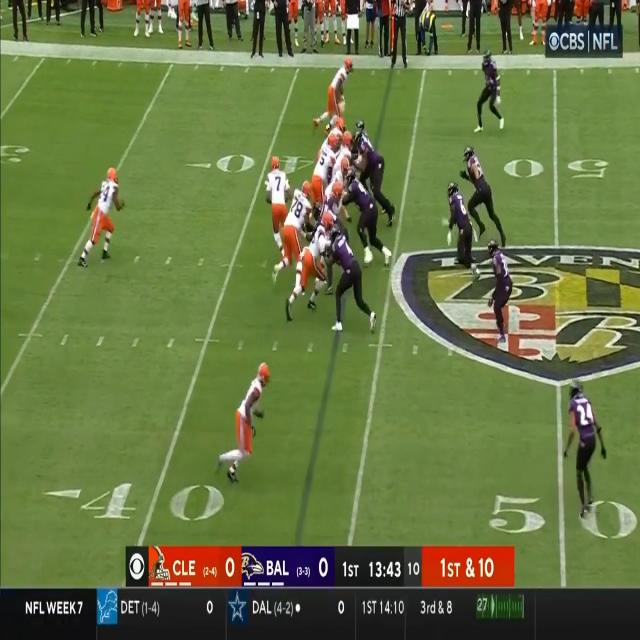players: (218, 357, 271, 487), (562, 384, 607, 534), (330, 222, 383, 340), (80, 154, 127, 273), (345, 170, 395, 271), (355, 121, 397, 233), (278, 183, 319, 285), (464, 148, 506, 245), (286, 230, 326, 320), (266, 157, 298, 256), (487, 245, 515, 353), (448, 182, 478, 280), (473, 52, 507, 136), (318, 57, 356, 131), (308, 118, 344, 194)
